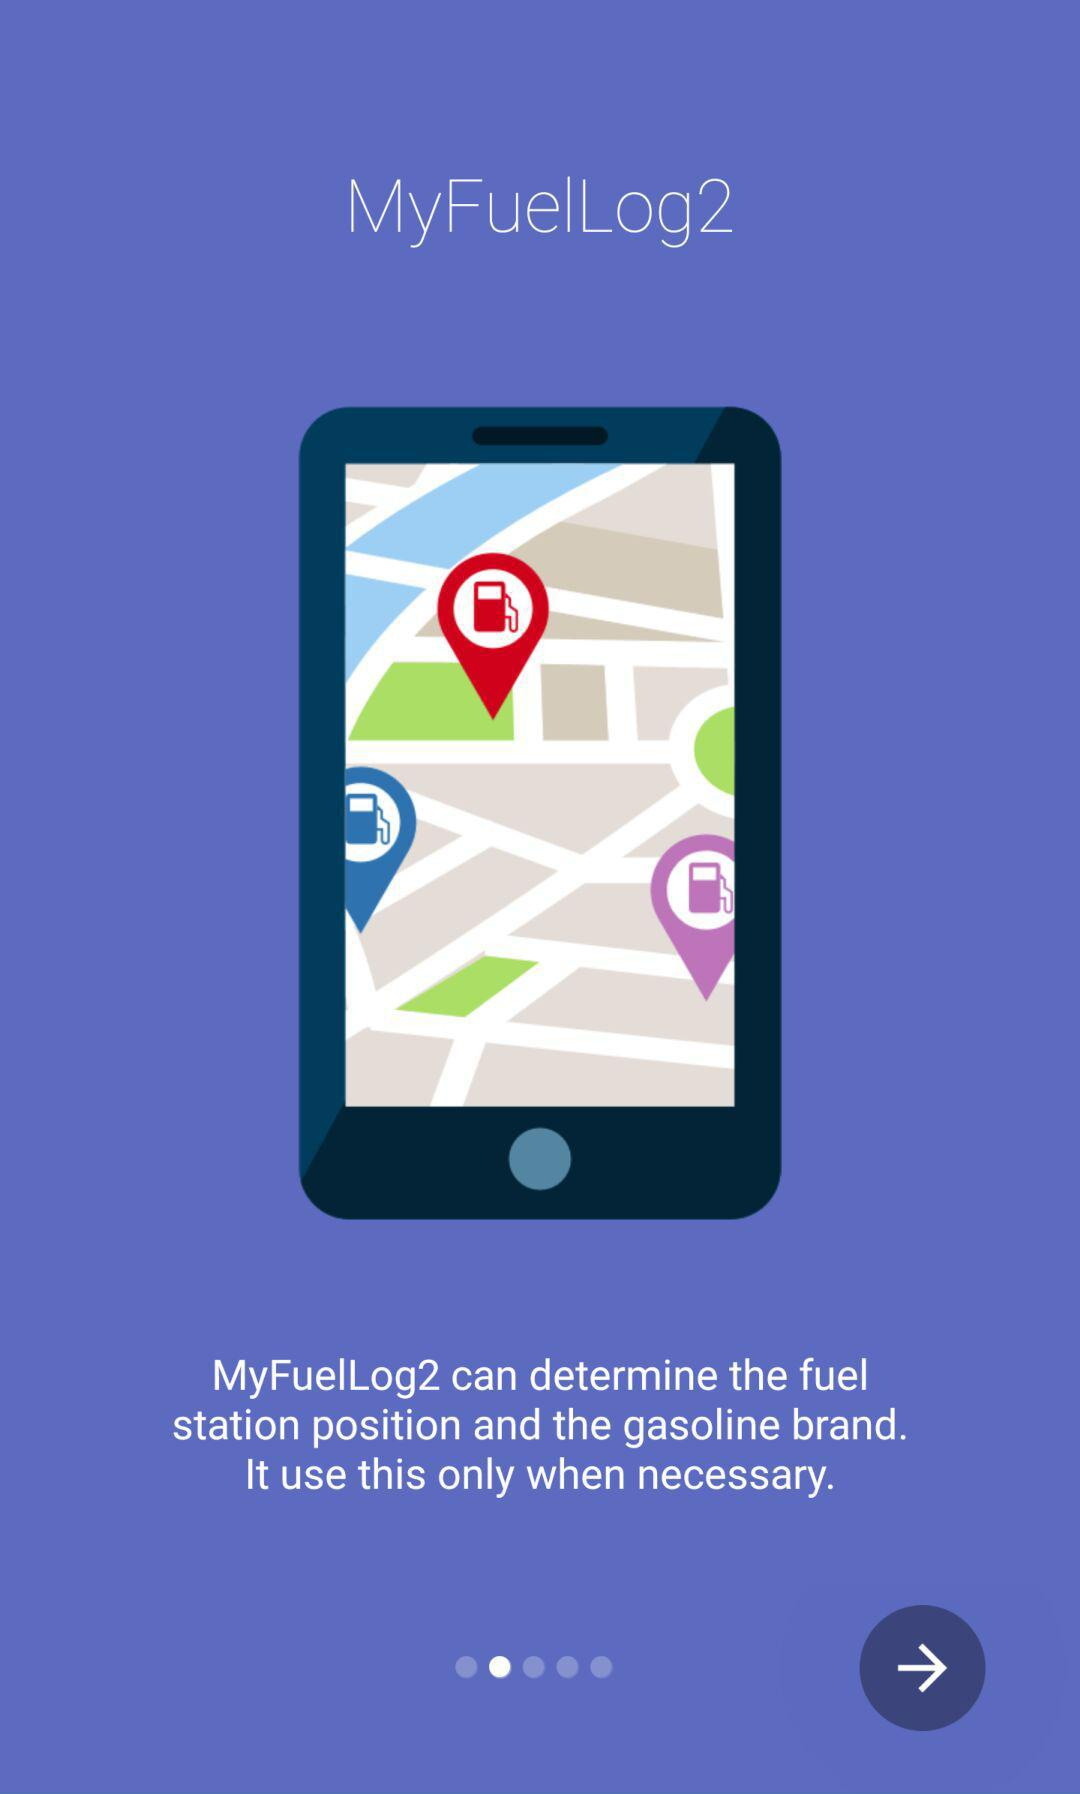Icon: (858, 1604, 986, 1732)
Image: (299, 406, 783, 1221)
PageIndicator: (454, 1654, 615, 1681)
Text: (173, 1357, 907, 1499), (350, 176, 734, 250)
